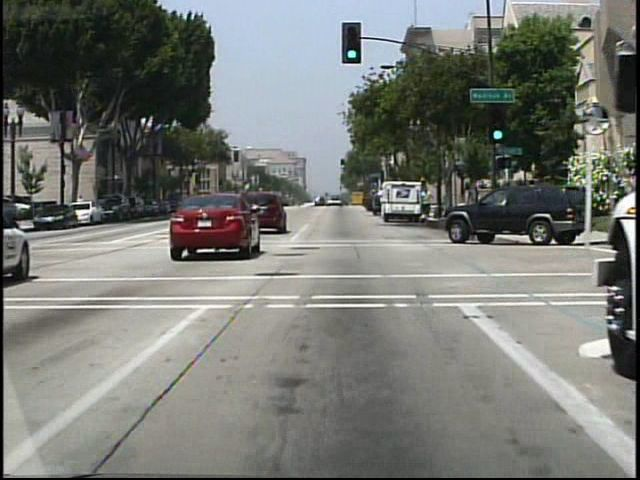person: (420, 187, 433, 219), (77, 192, 88, 217)
